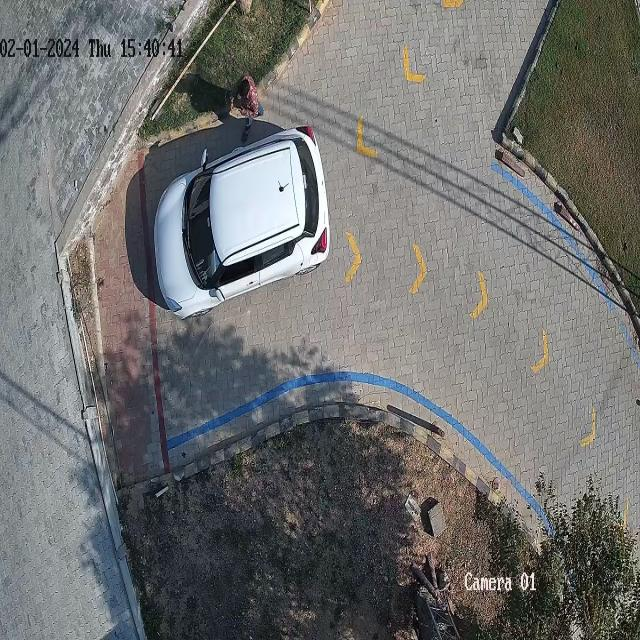car: (152, 127, 331, 319)
